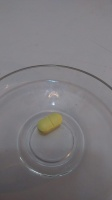Aferin: (35, 113, 64, 135)
